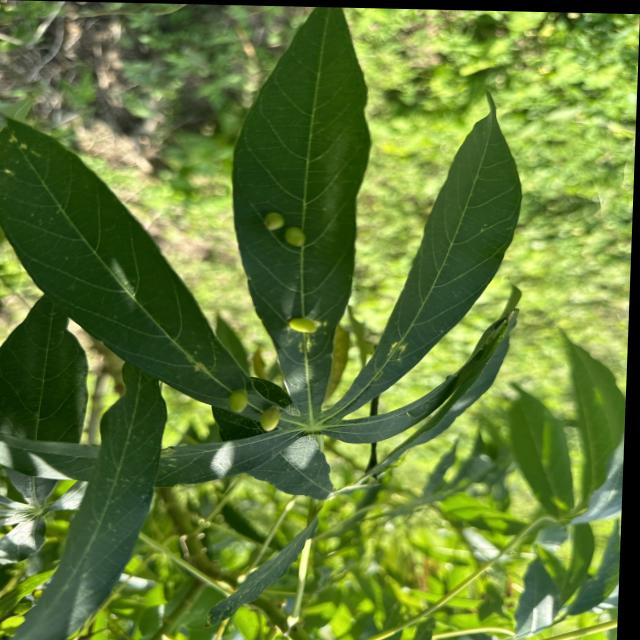Mosca: (200, 371, 297, 449), (250, 205, 329, 260), (270, 305, 329, 351)
